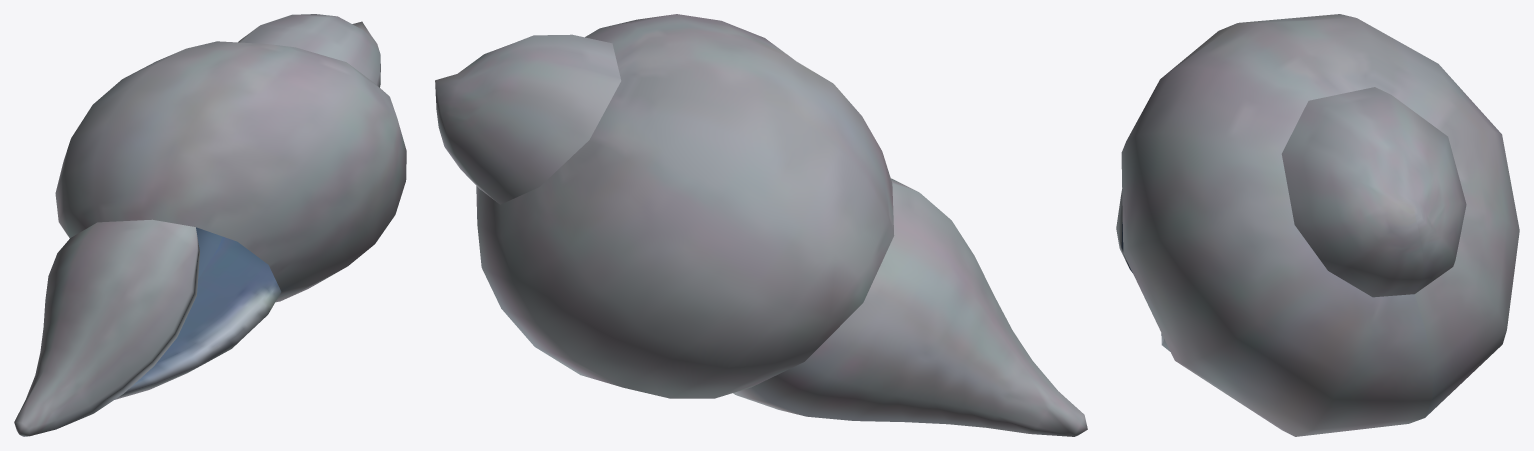
The model's file is spiral.glb.
3 renders of one model, left to right at view 1: azimuth 30°, elevation 25°; view 2: azimuth 150°, elevation 25°; view 3: azimuth 270°, elevation 25°, orthographic. The views are drawn at different scales.
Size of the model in its own units: 4.18 by 2.65 by 2.41.
Materials: 1 (1 with a texture image).
